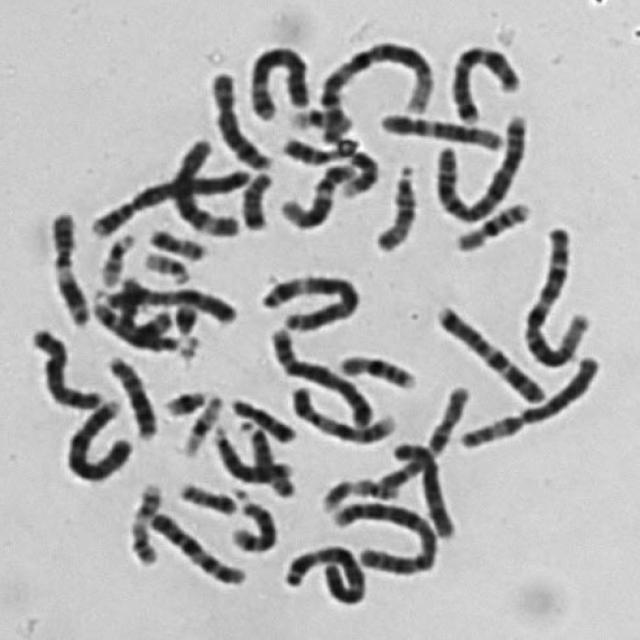A1: (311, 31, 438, 141), (516, 218, 600, 370)
A2: (426, 104, 533, 225), (324, 492, 442, 577)
A3: (253, 264, 365, 334), (275, 535, 372, 607)
B4: (81, 158, 254, 240), (57, 390, 137, 484)
B5: (261, 318, 378, 428), (241, 37, 314, 122)
C10: (370, 377, 475, 495), (144, 503, 252, 588)
C11: (40, 201, 94, 329), (116, 272, 173, 343)
C12: (373, 103, 508, 153), (274, 153, 359, 231)
C6: (452, 345, 606, 452), (163, 128, 244, 238)
C7: (428, 296, 550, 406), (443, 34, 528, 124)
C8: (201, 62, 275, 172), (386, 434, 460, 540)
C9: (284, 376, 402, 446), (279, 137, 381, 205)
D13: (206, 419, 298, 490), (99, 347, 160, 441)
D14: (82, 290, 197, 361), (224, 483, 282, 555)
D15: (230, 414, 298, 498), (368, 156, 421, 254)
E16: (447, 193, 536, 252), (332, 344, 421, 392)
E17: (120, 474, 165, 568), (314, 468, 404, 513)
E18: (223, 389, 298, 444), (235, 162, 276, 232)
F19: (174, 388, 227, 458), (283, 99, 353, 133)
F20: (141, 218, 210, 260), (171, 474, 240, 516)
G21: (156, 379, 212, 418), (167, 294, 204, 350)
G22: (92, 222, 140, 288), (136, 242, 194, 286)
X: (21, 319, 105, 411), (94, 275, 240, 325)
